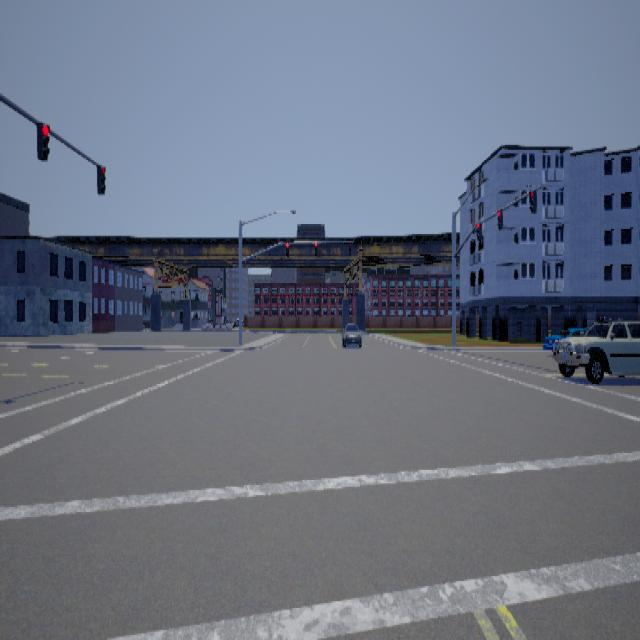red_light: (38, 120, 51, 160), (98, 163, 107, 194), (530, 189, 538, 212), (498, 207, 504, 229), (477, 221, 483, 239), (287, 241, 290, 256), (316, 241, 319, 254), (350, 241, 352, 254)
vehicle: (544, 315, 640, 382), (343, 322, 363, 347)
